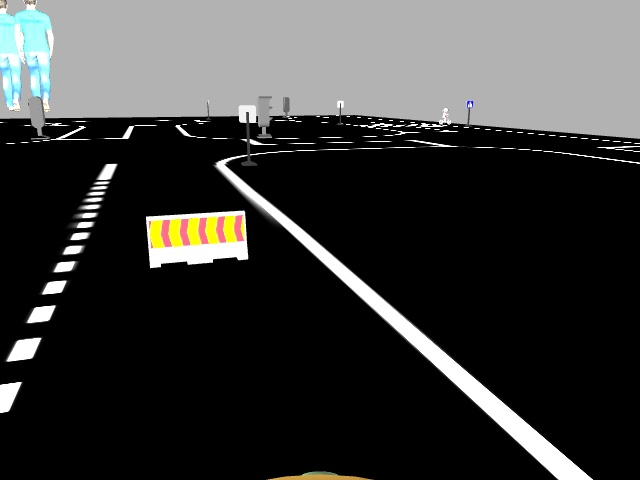ClosedRoadStand: (147, 217, 246, 258)
